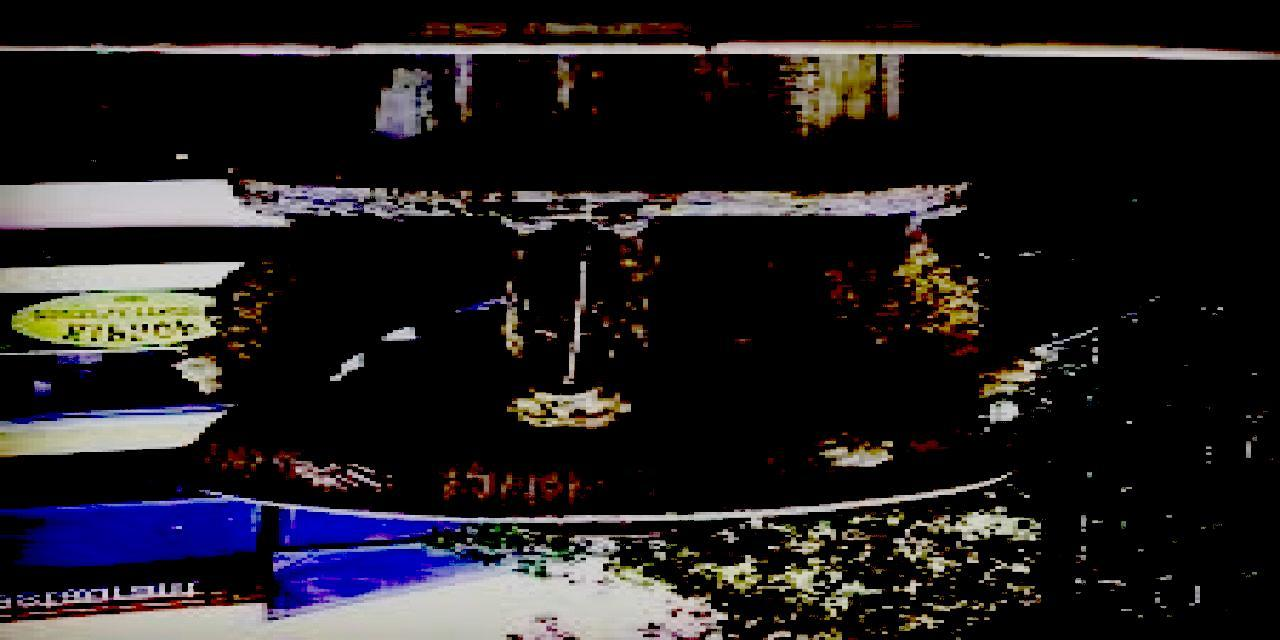Liontaria: (183, 34, 1023, 517)
